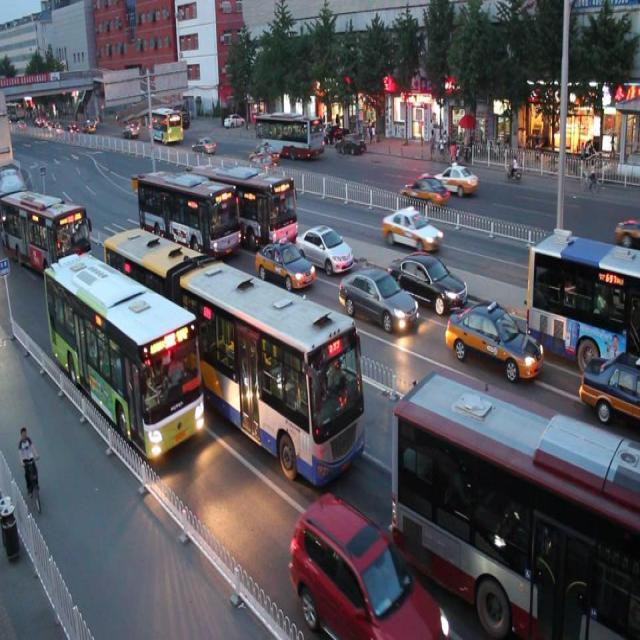car: (291, 489, 446, 640), (446, 294, 544, 382), (337, 258, 416, 331), (390, 243, 468, 309), (577, 348, 640, 418), (253, 230, 314, 289), (294, 214, 352, 273), (380, 206, 441, 254), (67, 255, 114, 307)
van: (102, 218, 366, 482), (391, 372, 640, 640), (42, 252, 202, 462), (524, 231, 640, 360), (136, 160, 240, 262), (191, 153, 298, 248), (1, 182, 90, 272)
